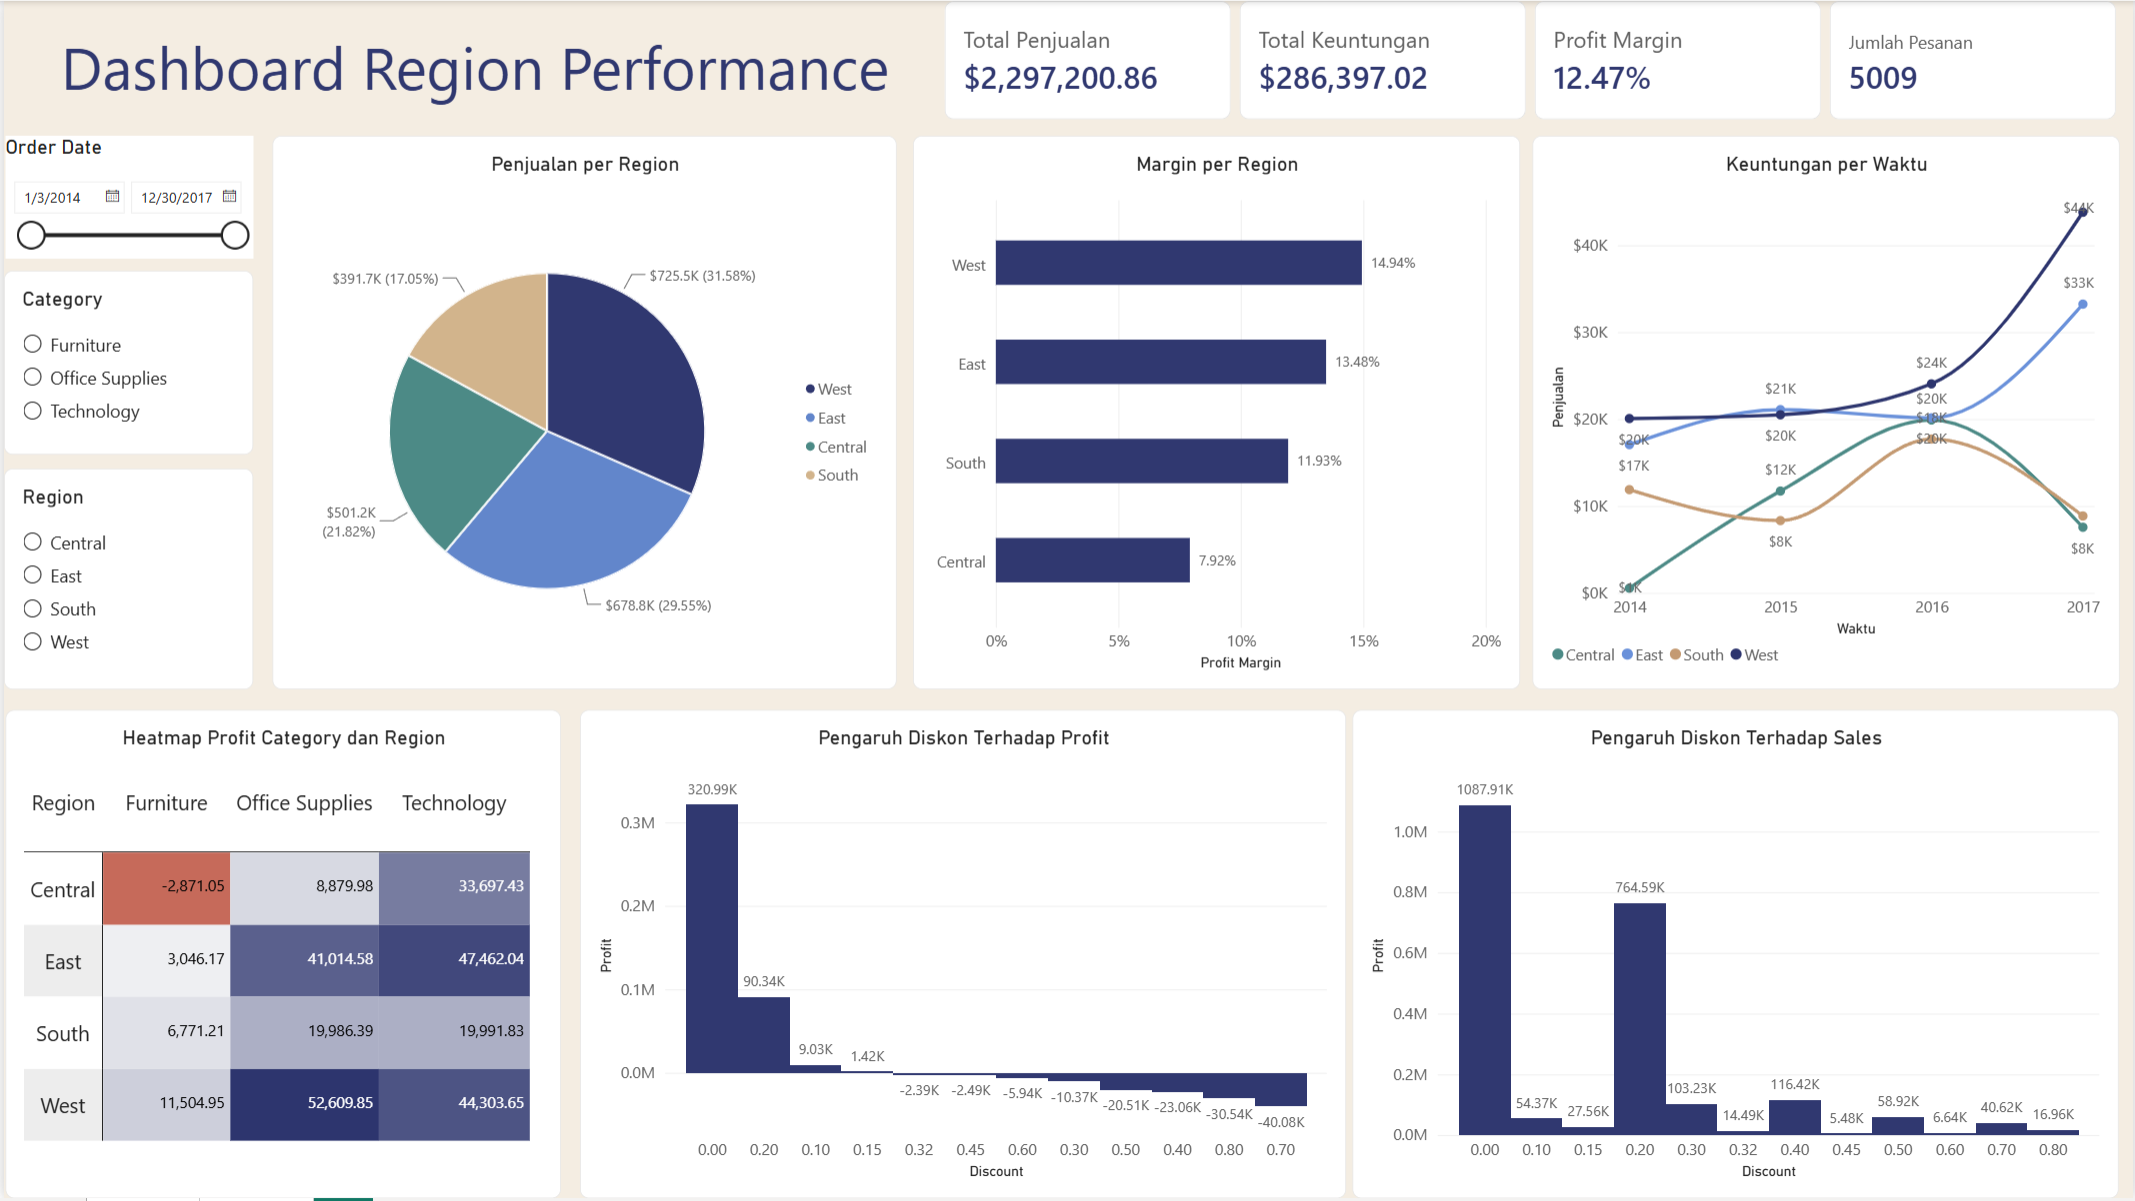

The page's visual inventory and layout, read from the dashboard file:
{"tool":"powerbi","page":{"name":"Page 1","canvas":[1920,1080],"ordinal":0},"visuals":[{"type":"pieChart","title":"Penjualan per Region","fields":{"Category":["Superstore_Clean.Region"],"Y":["Sum(Superstore_Clean.Sales)"]},"box":[241.4,122.2,562.7,499.4],"z":0},{"type":"barChart","title":"Margin per Region","fields":{"Category":["Superstore_Clean.Region"],"Y":["Superstore_Clean.Profit_Margin"]},"box":[819.2,122.2,547.6,499.4],"z":1000},{"type":"lineChart","title":"Keuntungan per Waktu","fields":{"Category":["Superstore_Clean.Order Date.Variation.Date Hierarchy.Year","Superstore_Clean.Order Date.Variation.Date Hierarchy.Quarter","Superstore_Clean.Order Date.Variation.Date Hierarchy.Month","Superstore_Clean.Order Date.Variation.Date Hierarchy.Day"],"Series":["Superstore_Clean.Region"],"Y":["Sum(Superstore_Clean.Profit)"]},"box":[1377.4,122.2,529.5,499.4],"z":2000},{"type":"pivotTable","title":"Heatmap Profit Berdasarkan Category dan Region","fields":{"Columns":["Superstore_Clean.Category"],"Rows":["Superstore_Clean.Region"],"Values":["Sum(Superstore_Clean.Profit)"]},"box":[1.5,639.7,500.9,440.5],"z":3000},{"type":"cardVisual","fields":{"Data":["Sum(Superstore_Clean.Sales)","Sum(Superstore_Clean.Profit)","Superstore_Clean.Profit_Margin","Count(Superstore_Clean.Order ID)"]},"box":[847.9,0,1059.1,107.1],"z":4000},{"type":"clusteredColumnChart","title":"Pengaruh Diskon Terhadap Profit","fields":{"Category":["Superstore_Clean.Discount"],"Y":["Sum(Superstore_Clean.Profit)"]},"box":[519,639.7,691,440.5],"z":5000},{"type":"slicer","title":"Order Date","fields":{"Values":["Superstore_Clean.Order Date"]},"box":[1.5,122.2,223.3,110.1],"z":6000},{"type":"listSlicer","fields":{"Values":["Superstore_Clean.Category"]},"box":[0,242.9,224.8,166],"z":7000},{"type":"listSlicer","fields":{"Values":["Superstore_Clean.Region"]},"box":[0,422.4,224.8,199.1],"z":8000},{"type":"textbox","box":[1.5,22.6,846.4,84.5],"z":9000},{"type":"clusteredColumnChart","title":"Jumlah Produk Berdasarkan Diskon","fields":{"Category":["Superstore_Clean.Discount"],"Y":["CountNonNull(Superstore_Clean.Product ID)"]},"box":[1216,639.7,691,440.5],"z":10001}]}

Visuals, with their boxes in screenshot pixels (x1, y1, x2, y2), scaled from the page's 1920x1080 canvas onto the 2135x1201 screenshot:
"Penjualan per Region" pieChart: box(268, 136, 894, 691)
"Margin per Region" barChart: box(911, 136, 1520, 691)
"Keuntungan per Waktu" lineChart: box(1532, 136, 2120, 691)
"Heatmap Profit Berdasarkan Category dan Region" pivotTable: box(2, 711, 559, 1200)
cardVisual - Sum(Superstore_Clean.Sales) x Sum(Superstore_Clean.Profit): box(943, 0, 2121, 119)
"Pengaruh Diskon Terhadap Profit" clusteredColumnChart: box(577, 711, 1345, 1200)
"Order Date" slicer: box(2, 136, 250, 258)
listSlicer - Superstore_Clean.Category: box(0, 270, 250, 455)
listSlicer - Superstore_Clean.Region: box(0, 470, 250, 691)
textbox: box(2, 25, 943, 119)
"Jumlah Produk Berdasarkan Diskon" clusteredColumnChart: box(1352, 711, 2121, 1200)
